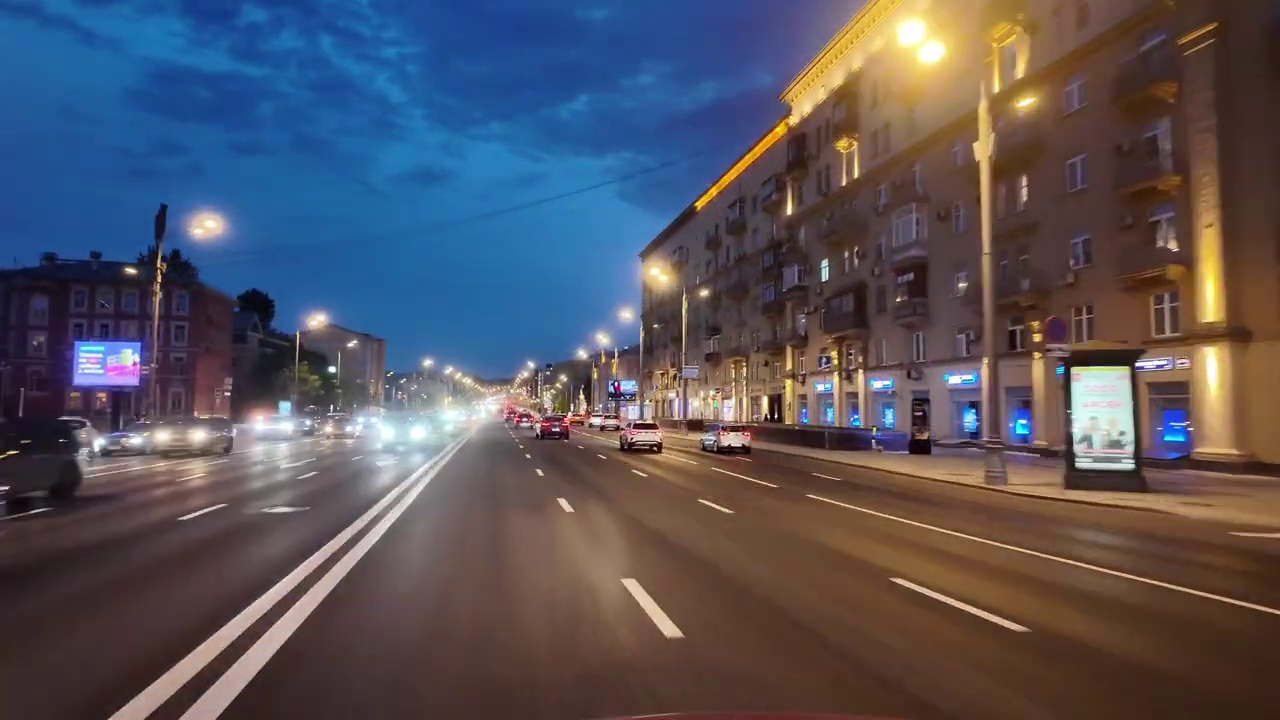acesa: (869, 8, 953, 76), (643, 260, 676, 292), (190, 212, 223, 240), (305, 309, 330, 334), (616, 305, 636, 325)
